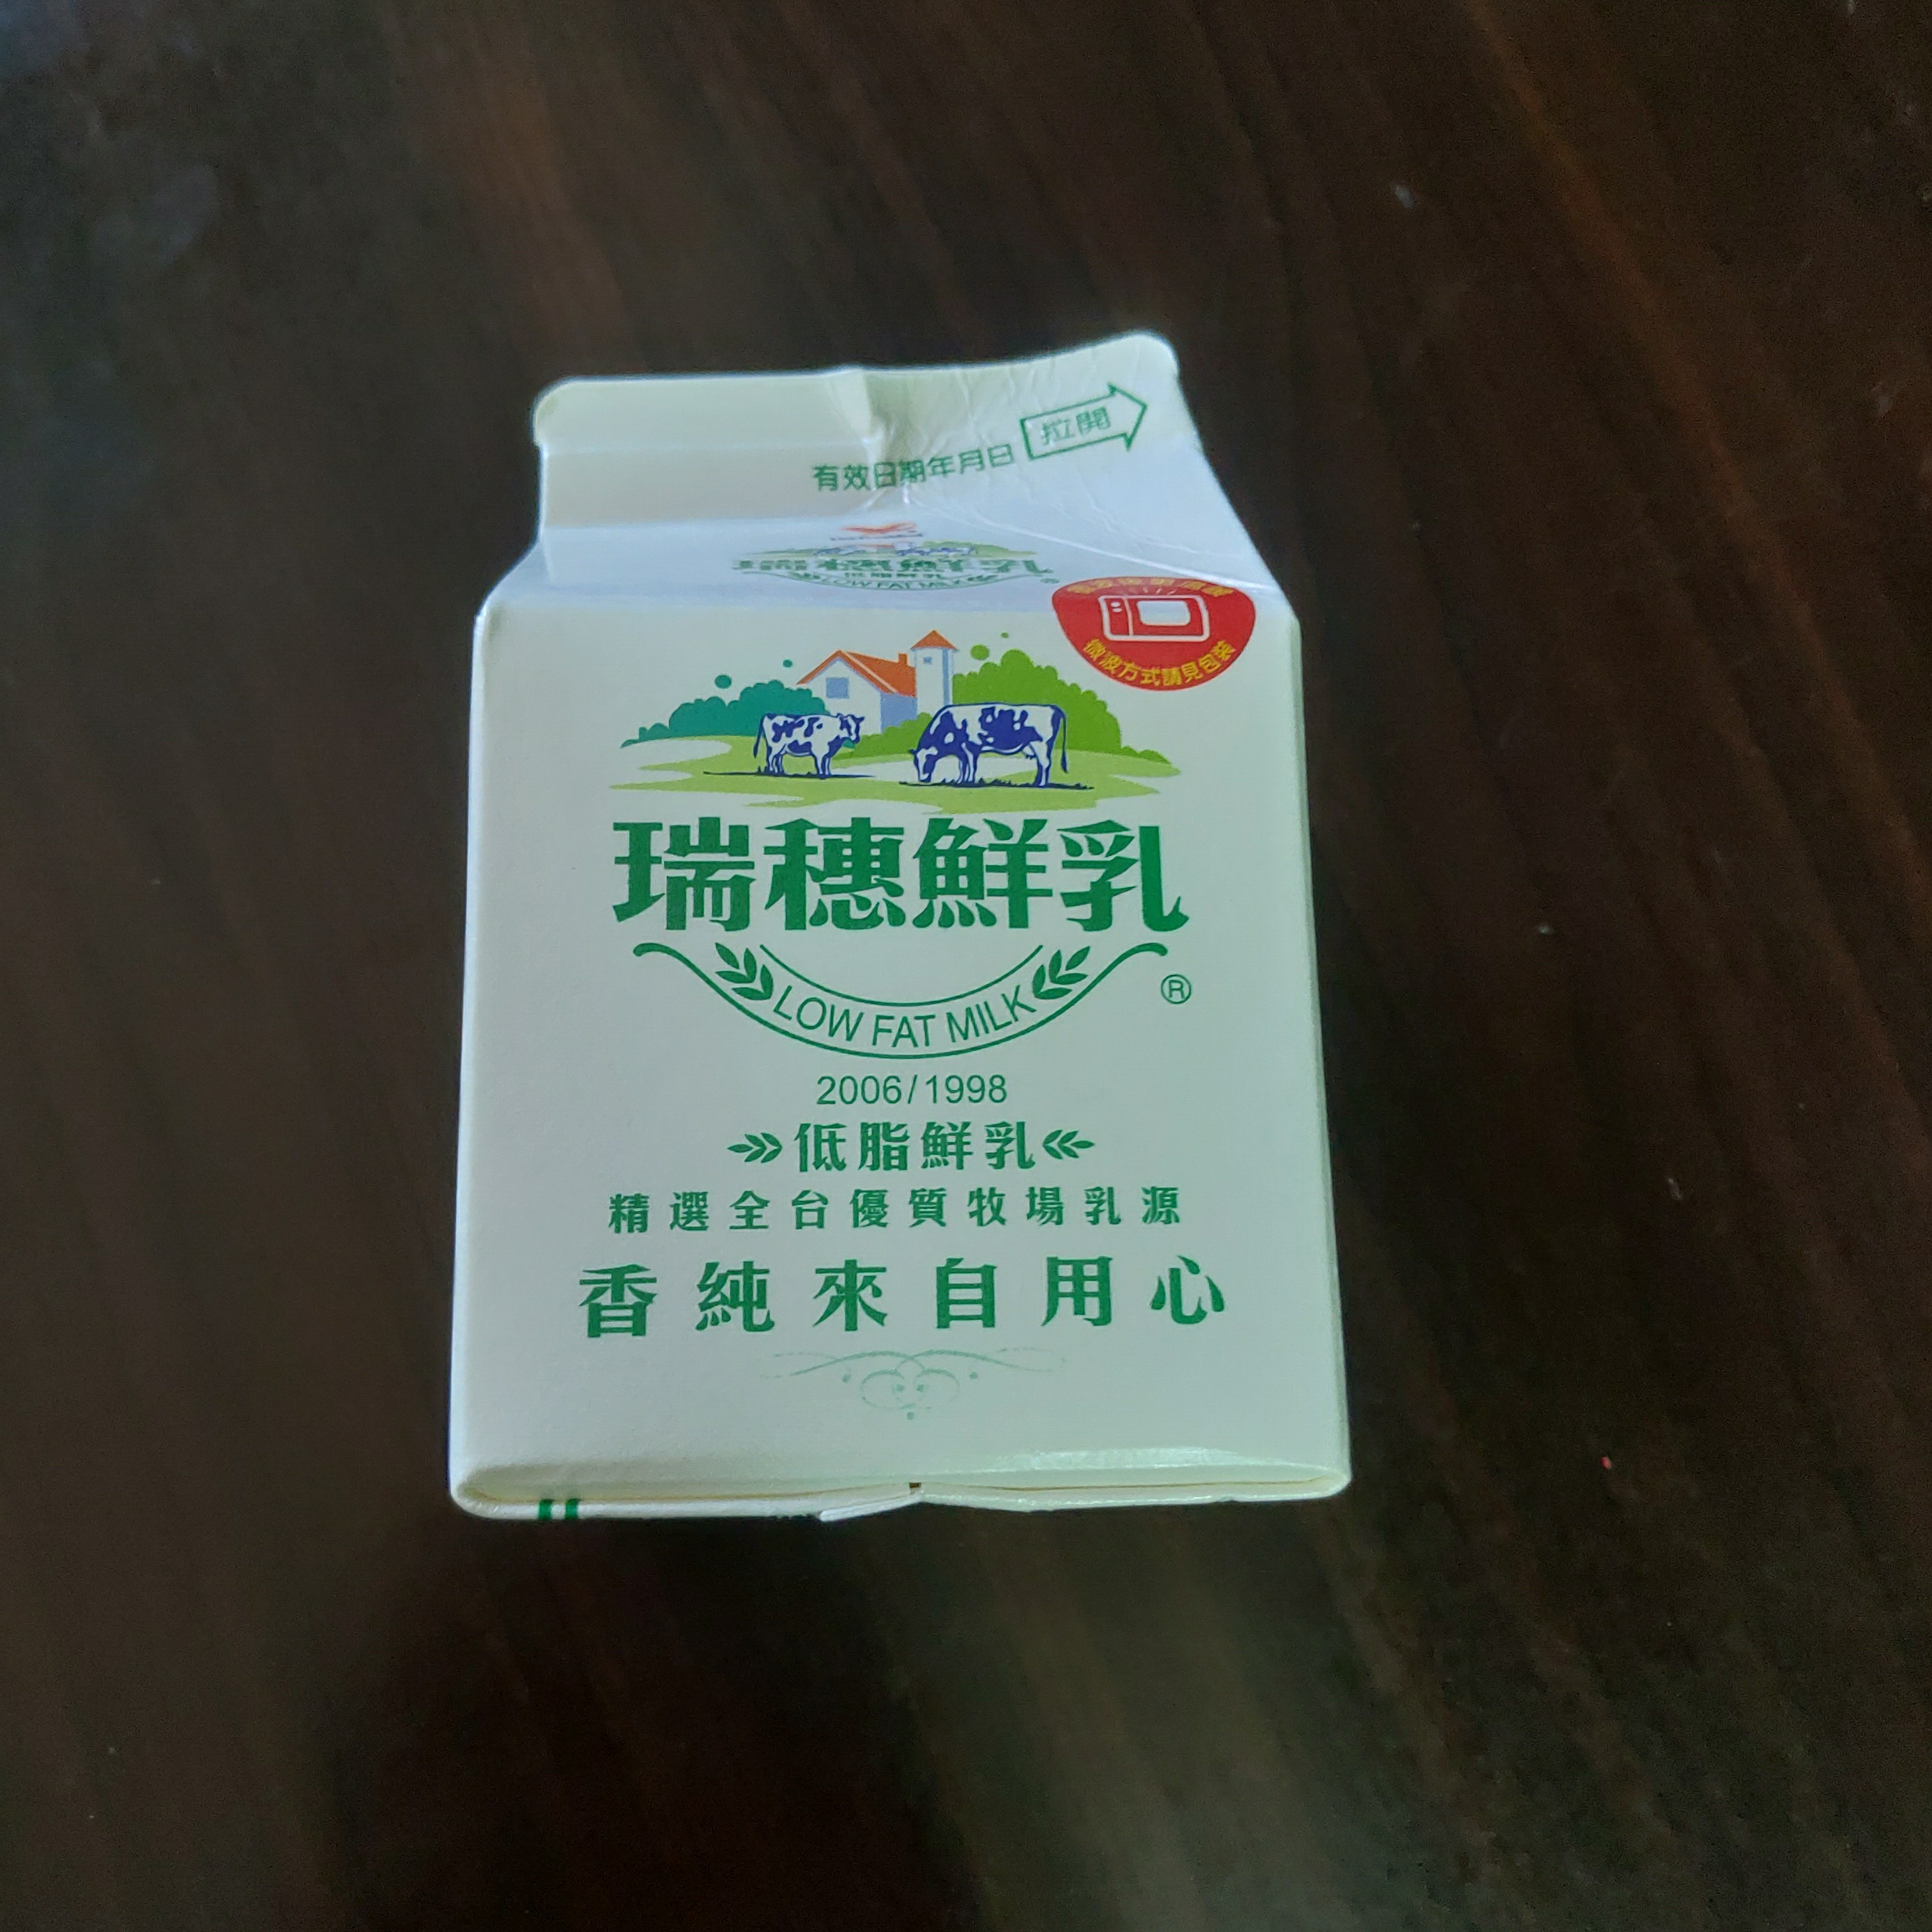Paper: (425, 318, 1373, 1543)
